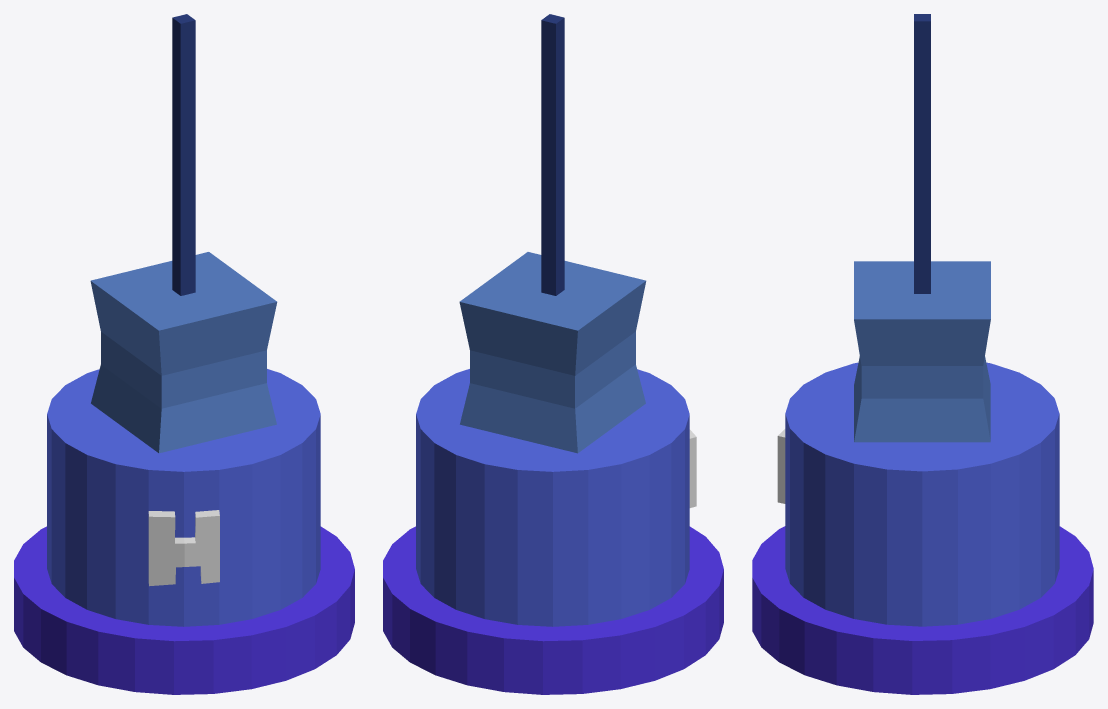
File: HydrogenGenerator.fbx
3 renders of one model, left to right at view 1: azimuth 30°, elevation 25°; view 2: azimuth 150°, elevation 25°; view 3: azimuth 270°, elevation 25°, orthographic.
Visible parts, largest first — view 1: Cylinder.001, Cube, Cylinder, Cube.001, Cylinder.002; view 2: Cylinder.001, Cube, Cylinder, Cube.001, Cylinder.002; view 3: Cylinder.001, Cylinder, Cube, Cube.001, Cylinder.002.
Boxes of the visible parts, bbox=[...] form: Cylinder.001: bbox=[47, 369, 320, 626]; Cube: bbox=[90, 252, 277, 453]; Cylinder: bbox=[14, 526, 354, 694]; Cube.001: bbox=[172, 14, 195, 295]; Cylinder.002: bbox=[148, 510, 219, 586]; Cylinder.001: bbox=[416, 369, 689, 626]; Cube: bbox=[459, 252, 646, 453]; Cylinder: bbox=[383, 526, 723, 694]; Cube.001: bbox=[541, 14, 564, 295]; Cylinder.002: bbox=[689, 429, 696, 507]; Cylinder.001: bbox=[785, 362, 1059, 626]; Cylinder: bbox=[752, 526, 1093, 694]; Cube: bbox=[854, 261, 990, 442]; Cube.001: bbox=[914, 14, 930, 293]; Cylinder.002: bbox=[777, 429, 785, 503].
Size of the model in its own units: 200 by 390 by 199.
